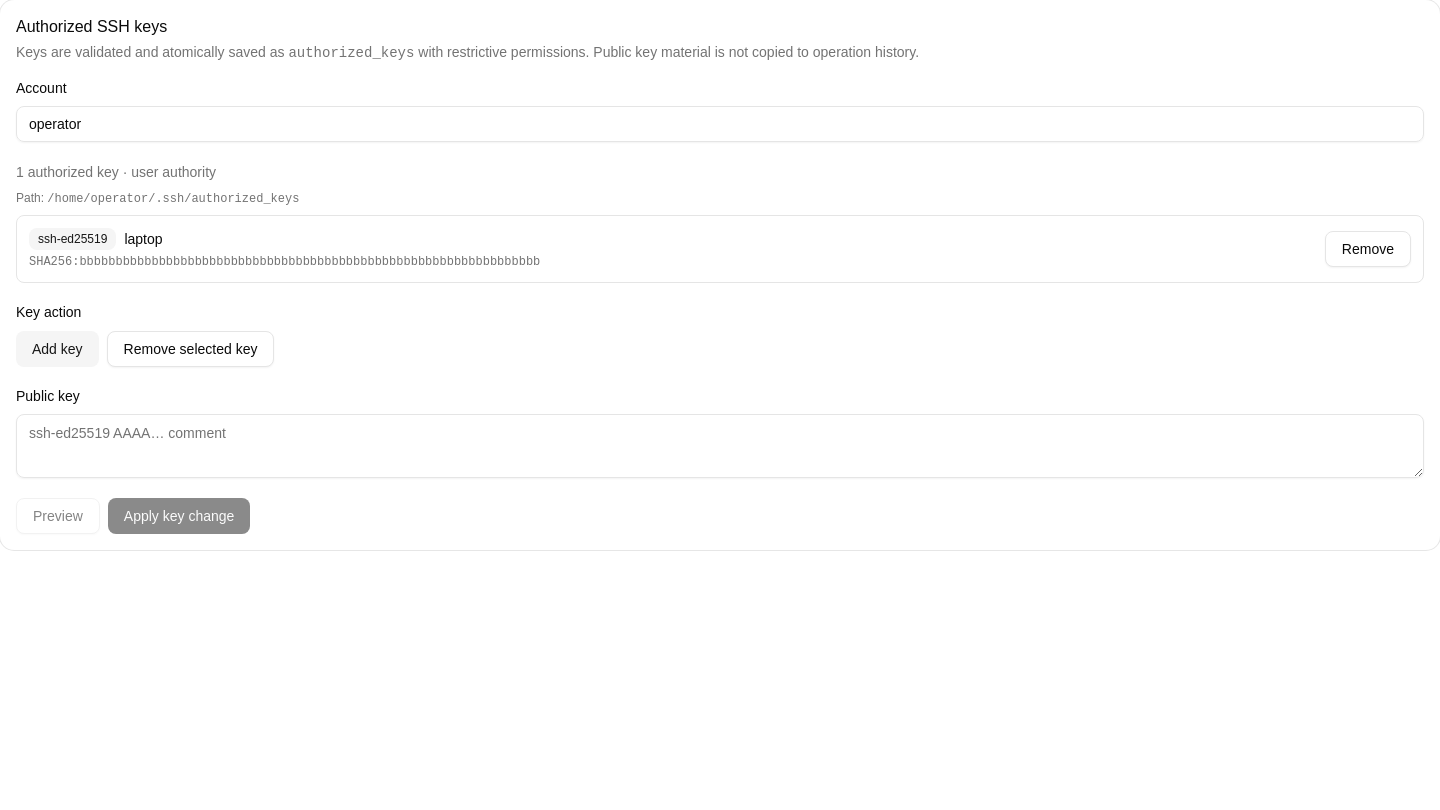
SSHKeyManager › requires confirmation before removing a key
Click the button "Remove": click(1368, 249) [1325,231,1411,267]
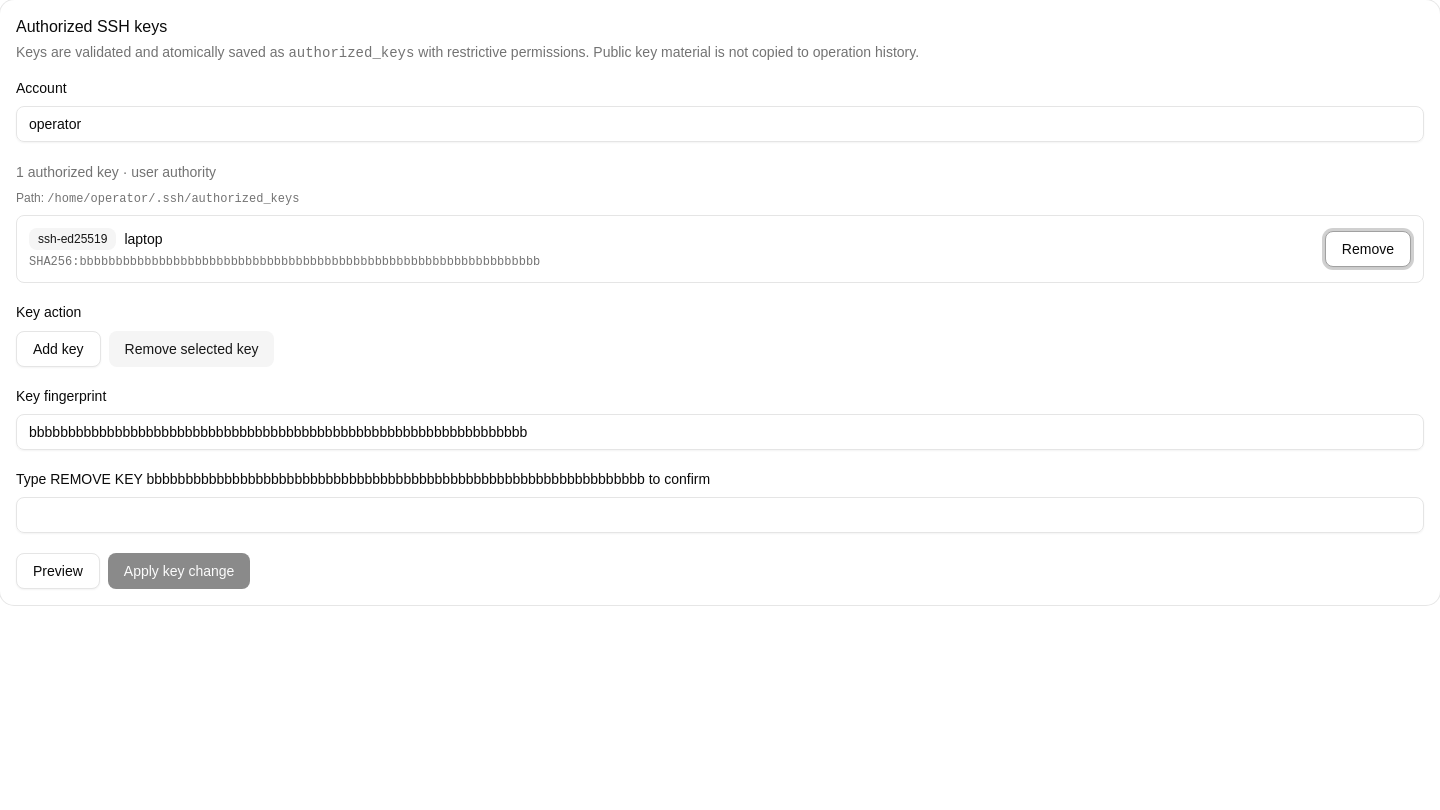
Check: the button "Apply key change" is disabled, box [108,553,250,589]
Check: the field labelled "Type REMOVE KEY" is shown, box [16,497,1424,533]
